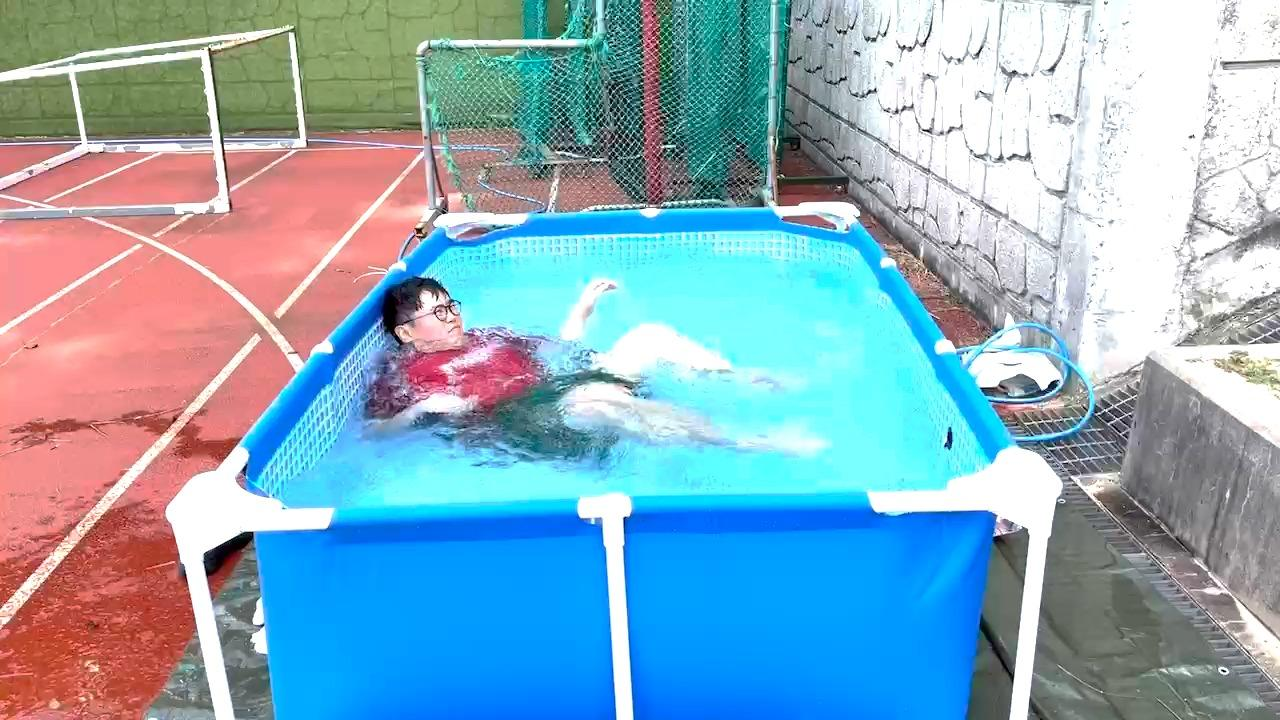Drowning: (380, 267, 762, 454)
